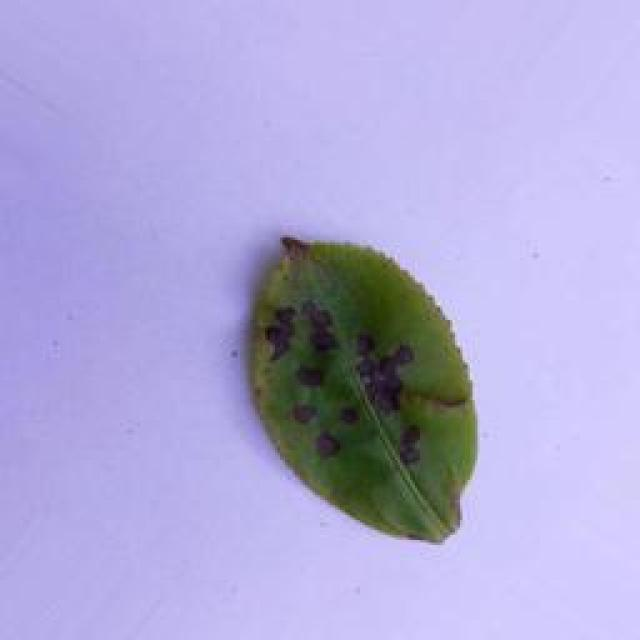Helopeltis: (227, 216, 501, 558)
